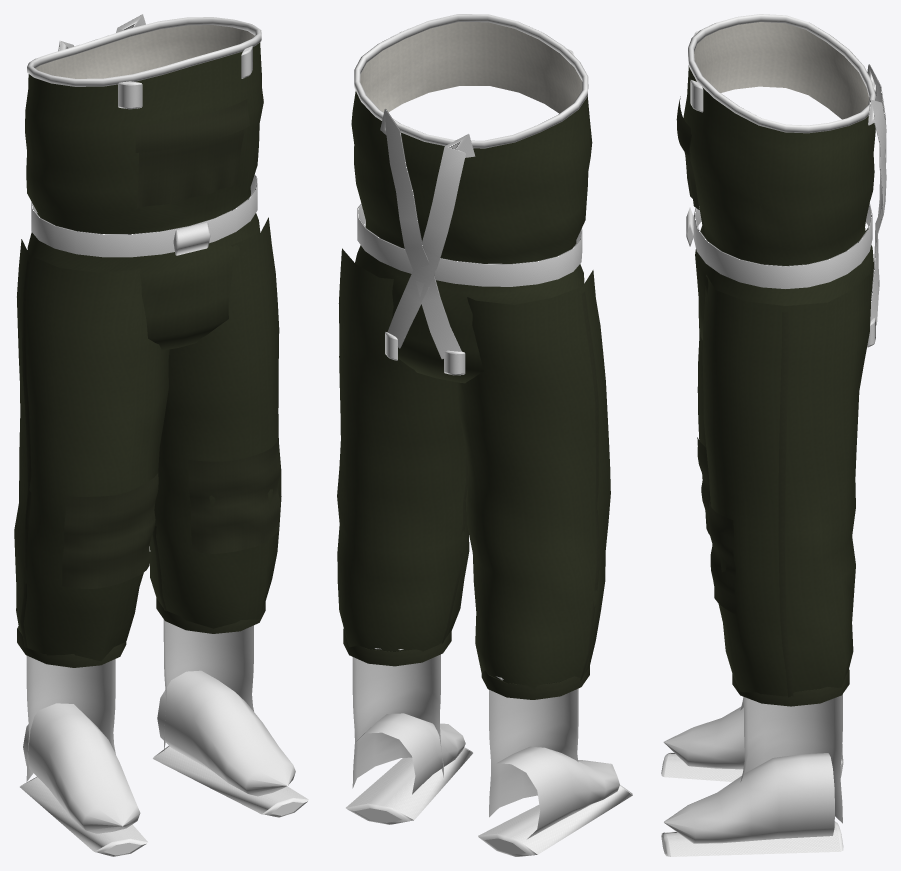
Rendered from wear_waders.lod2.glb.
The picture shows the model from 3 angles, left to right: view 1: azimuth 30°, elevation 25°; view 2: azimuth 150°, elevation 25°; view 3: azimuth 270°, elevation 25°; orthographic projection.
Visible parts, largest first — view 1: Tool; view 2: Tool; view 3: Tool.
Part boxes in pixels (x1=…): Tool: x1=14, y1=14, x2=308, y2=856; Tool: x1=337, y1=14, x2=632, y2=856; Tool: x1=661, y1=14, x2=886, y2=856.
Size of the model in its own units: 0.4416 by 1.31 by 0.3484.
7 materials, 7 textured.
